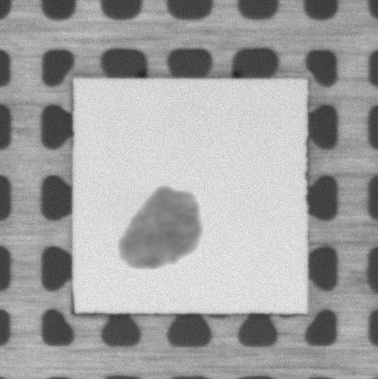DIE_INK: (107, 177, 212, 278)
